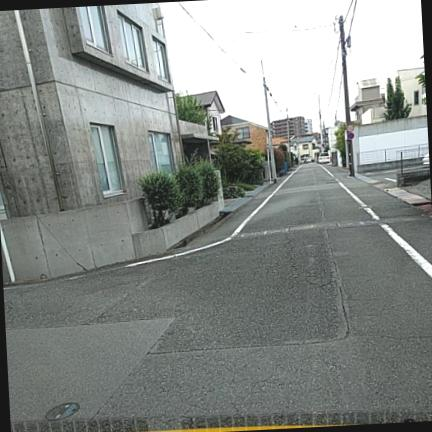Road: (4, 165, 431, 429)
